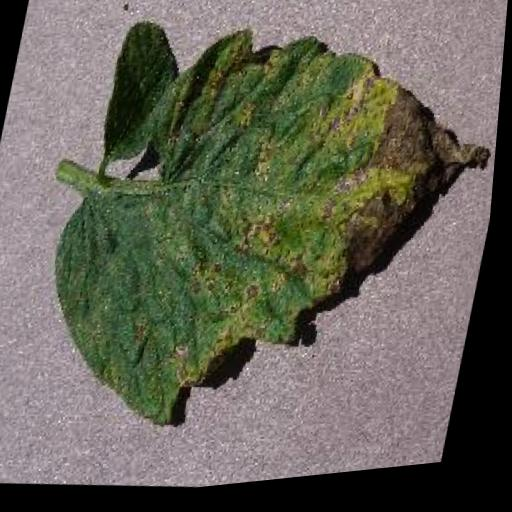Septoria: (28, 0, 510, 474)
